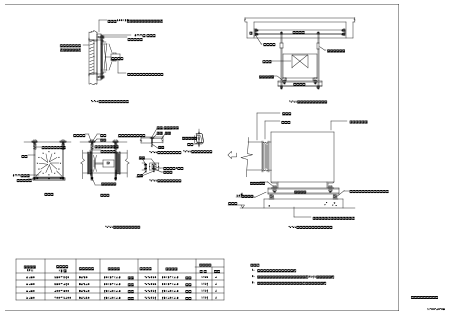corridor: (276, 281, 397, 298)
door: (139, 151, 141, 157)
room: (12, 11, 250, 53), (97, 163, 109, 166)
wall: (155, 139, 170, 144), (285, 117, 298, 122), (286, 275, 293, 284), (101, 287, 105, 289), (398, 298, 400, 302), (273, 298, 275, 302), (98, 233, 101, 234), (99, 287, 101, 288), (97, 287, 99, 288), (101, 233, 102, 234), (101, 288, 101, 289), (96, 234, 98, 234), (103, 234, 104, 234), (102, 234, 103, 234)
window: (104, 234, 105, 234)
